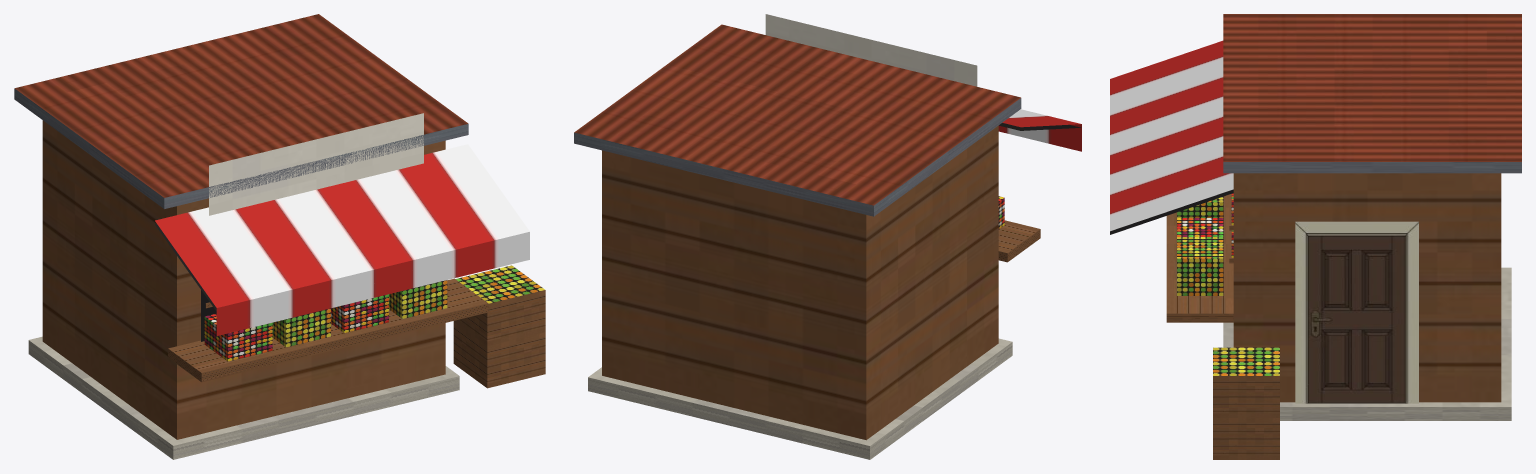
File: kiosk-red.glb
3 views of the same model, side by side, from view 1: azimuth 30°, elevation 25°; view 2: azimuth 150°, elevation 25°; view 3: azimuth 270°, elevation 25° (orthographic).
Parts seen in each view (by area): view 1: kiosk-red, sign_1; view 2: kiosk-red, sign_1; view 3: kiosk-red.
Boxes of the visible parts, x1=… form: kiosk-red: x1=14, y1=14, x2=545, y2=459; sign_1: x1=209, y1=113, x2=423, y2=215; kiosk-red: x1=574, y1=24, x2=1081, y2=459; sign_1: x1=765, y1=14, x2=977, y2=86; kiosk-red: x1=1110, y1=14, x2=1521, y2=459.
Bounding box in the file's own units: 4.25 × 3.05 × 4.
Materials: 1 (1 with a texture image).
